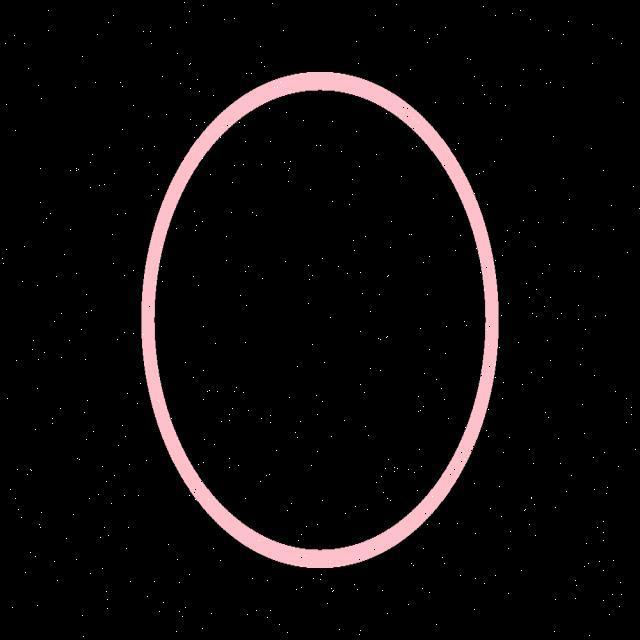Circle: (141, 71, 498, 570)
